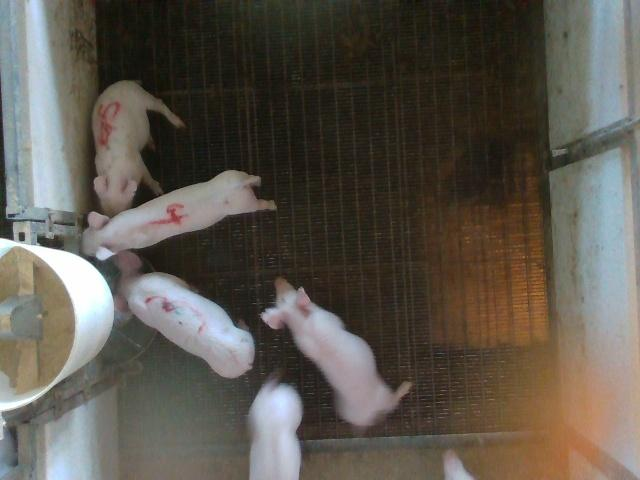pig-3: (112, 251, 255, 377)
pig-4: (82, 170, 276, 258)
pig-5: (92, 80, 184, 217)
